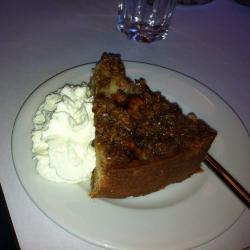apple_pie: (86, 44, 216, 215)
chantilly: (33, 82, 97, 187)
